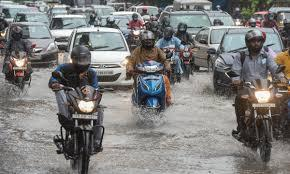helmet: (71, 44, 91, 73), (245, 28, 265, 53), (140, 31, 155, 50), (11, 26, 23, 43), (163, 27, 174, 40), (177, 22, 187, 35), (106, 15, 115, 27), (162, 17, 171, 28), (131, 12, 139, 21)
